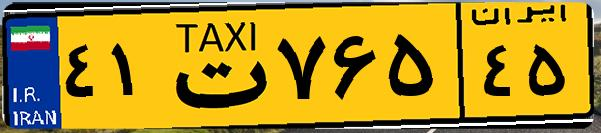1: (110, 28, 158, 98)
4: (57, 26, 110, 100), (475, 38, 525, 113)
5: (385, 28, 445, 110), (525, 38, 570, 115)
6: (330, 28, 385, 110)
7: (270, 28, 330, 110)
ت: (158, 12, 270, 120)
